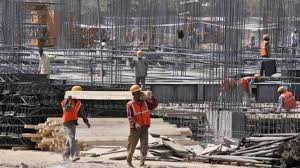helmet: (276, 85, 286, 92), (130, 86, 140, 92), (72, 85, 81, 91), (137, 50, 142, 58)
vest: (132, 102, 152, 126), (62, 100, 80, 120), (281, 94, 297, 109), (259, 42, 270, 56)
